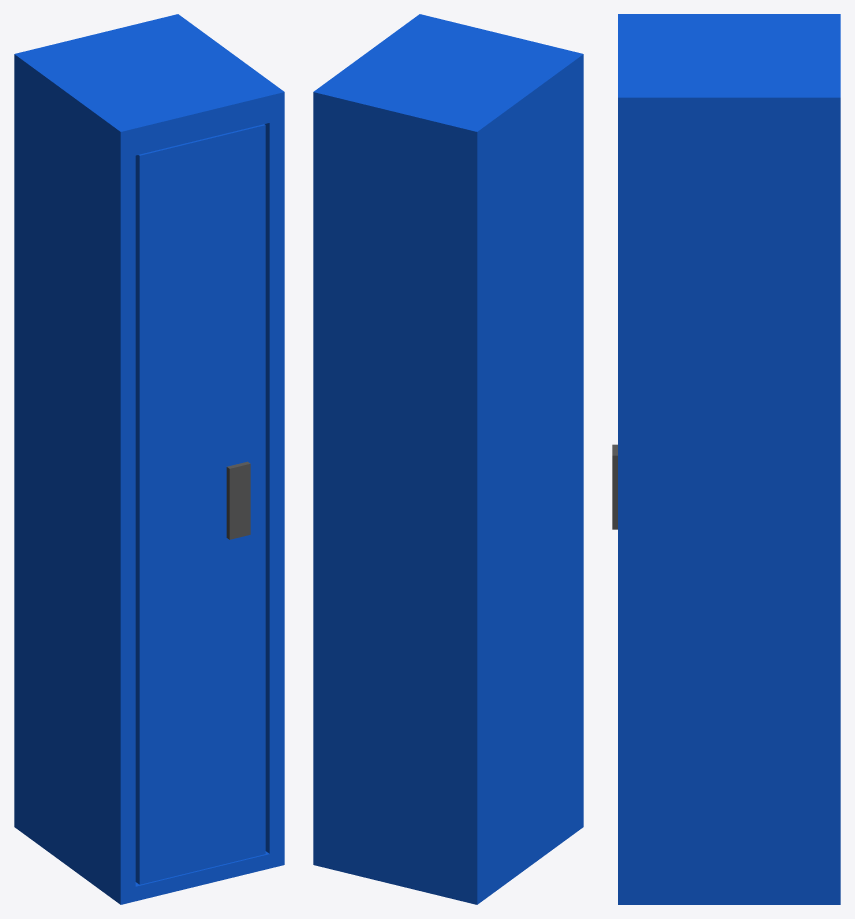
File: LockerAndLid.fbx
3 renders of one model, left to right at view 1: azimuth 30°, elevation 25°; view 2: azimuth 150°, elevation 25°; view 3: azimuth 270°, elevation 25°, orthographic. The views are drawn at different scales.
Parts seen in each view (by area): view 1: Locker, LockerLid; view 2: Locker; view 3: Locker, LockerLid.
Part boxes in pixels (x1,y1,x2,y2): Locker: (14,14,284,904); LockerLid: (135,124,265,884); Locker: (313,14,583,904); Locker: (618,14,840,904); LockerLid: (612,444,617,529).
Size of the model in its own units: 40.6 by 46.89 by 183.
